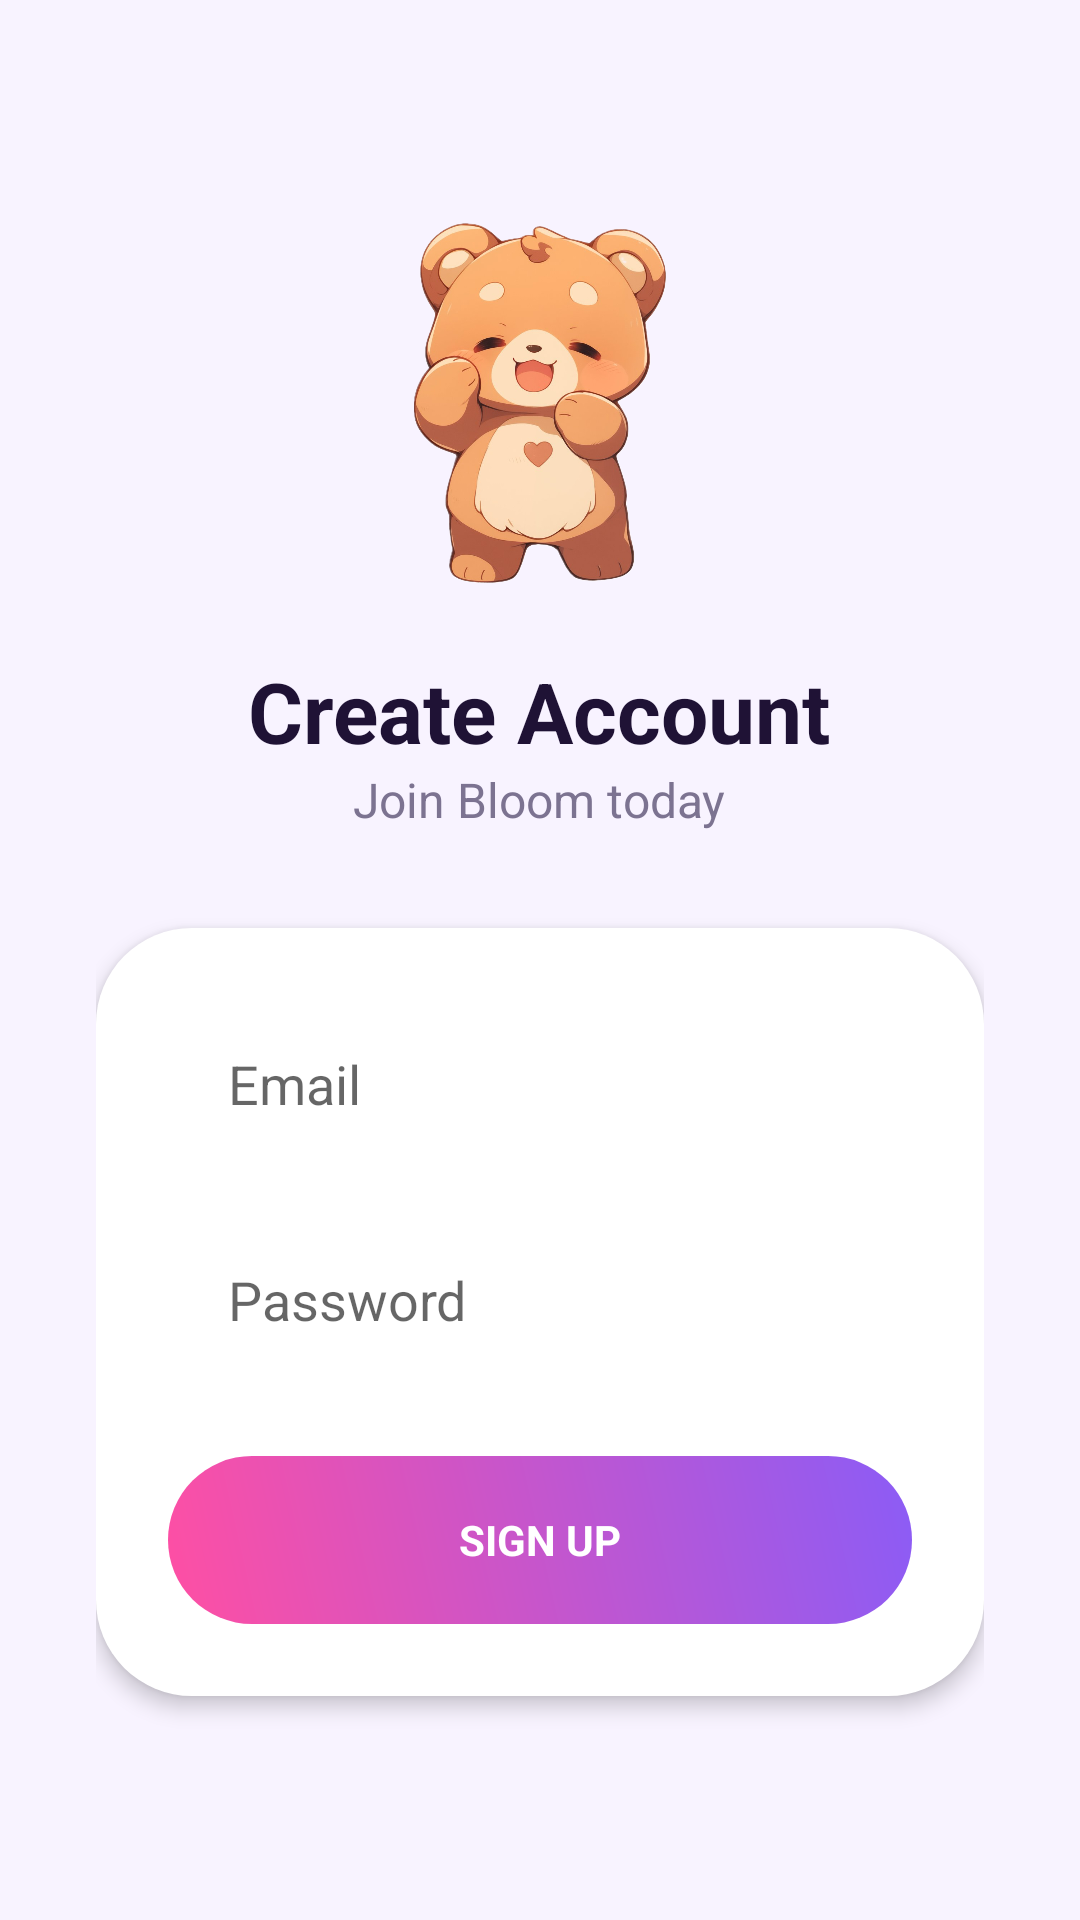

Where icons sit on this 1080px×1920px app screen, as (x1, y1, x2, y2):
Bibo, the brown bear: (414, 223, 666, 583)
